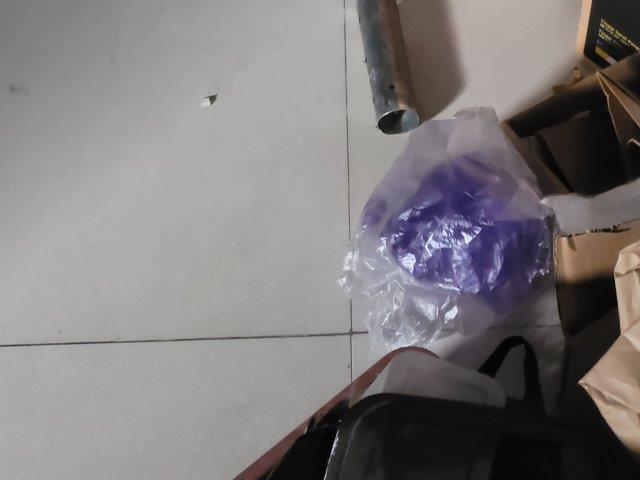plastik: (325, 110, 563, 354)
